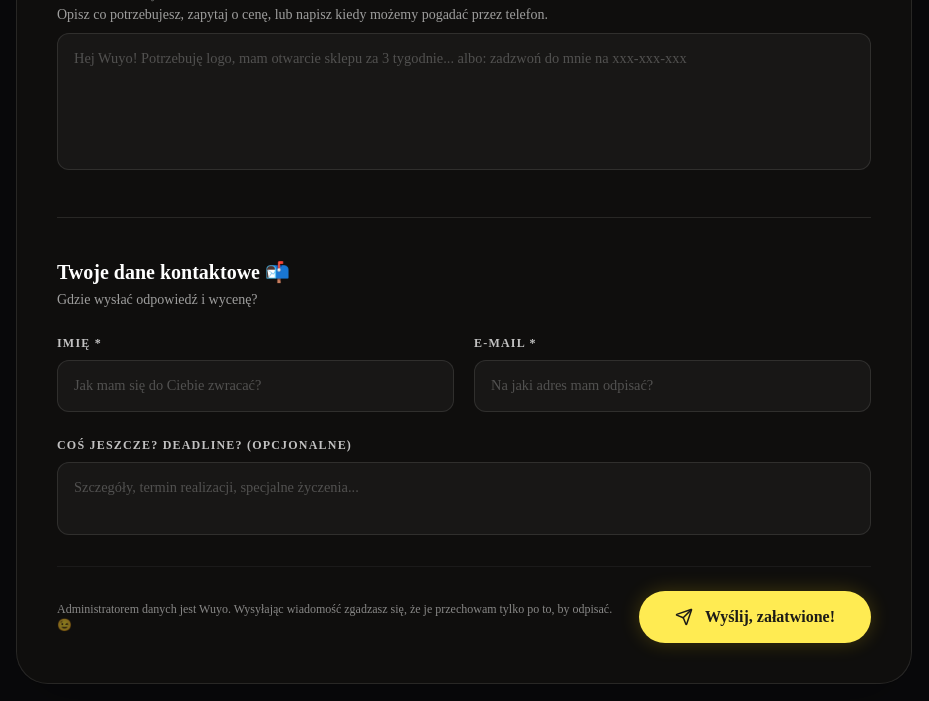
Test: ContactBrief › TC-5 pokazuje błąd gdy API zwraca błąd HTTP
(page scrolled)
Type "Piotr" into the field labelled "Imię *" at (256, 386), box left=57, top=360, right=454, bottom=412
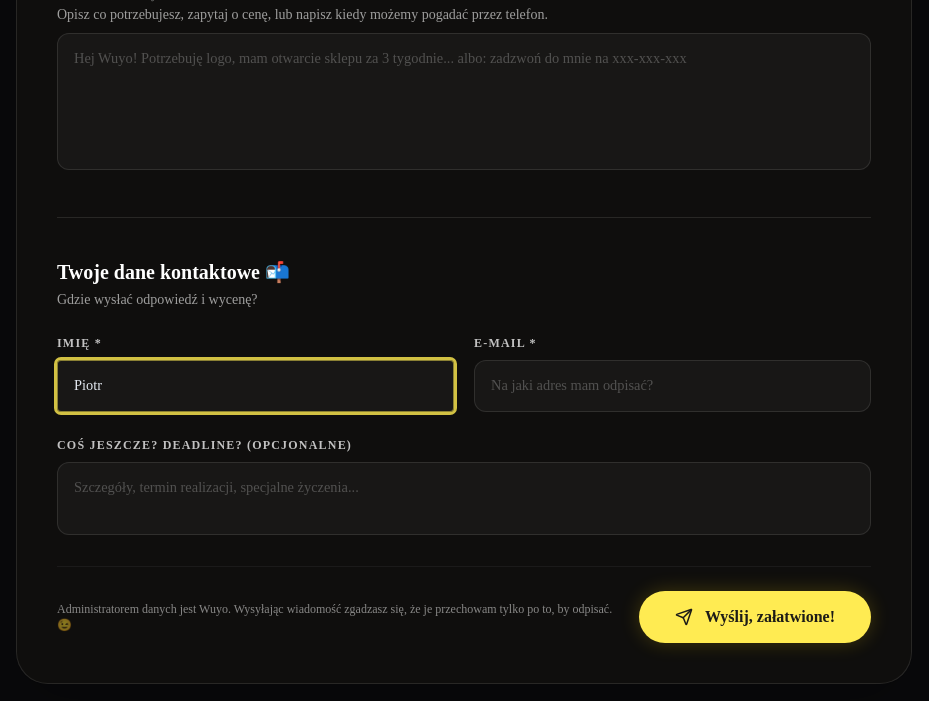
Type "piotr@test.pl" into the field labelled "E-mail *" at (672, 386), box left=474, top=360, right=871, bottom=412
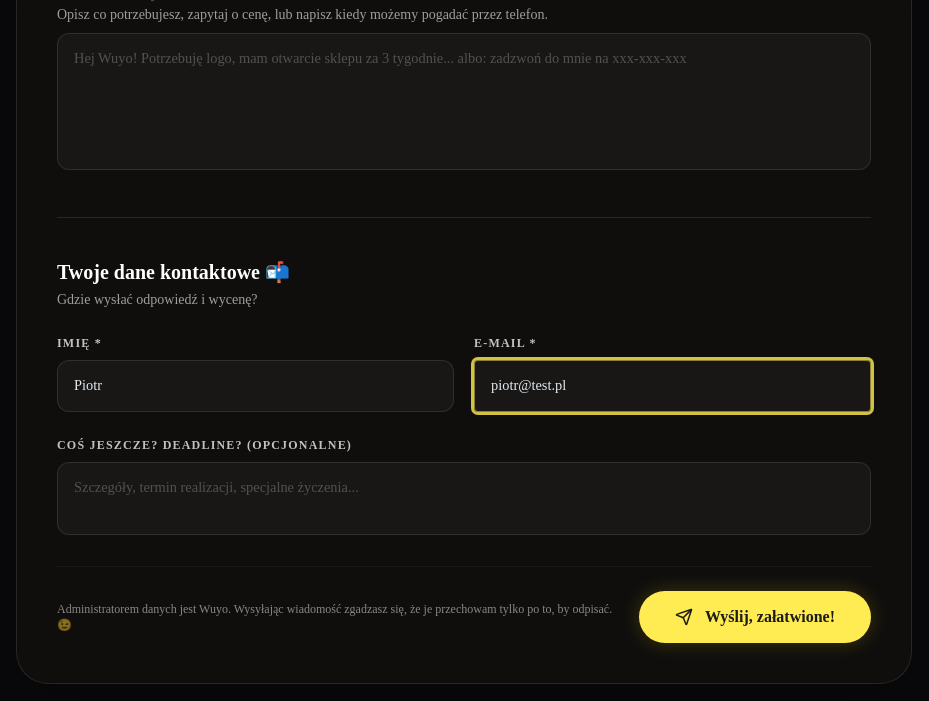
Type "Pytanie o stronę" into the text box with placeholder "Hej Wuyo" at (464, 101), box left=57, top=32, right=871, bottom=170
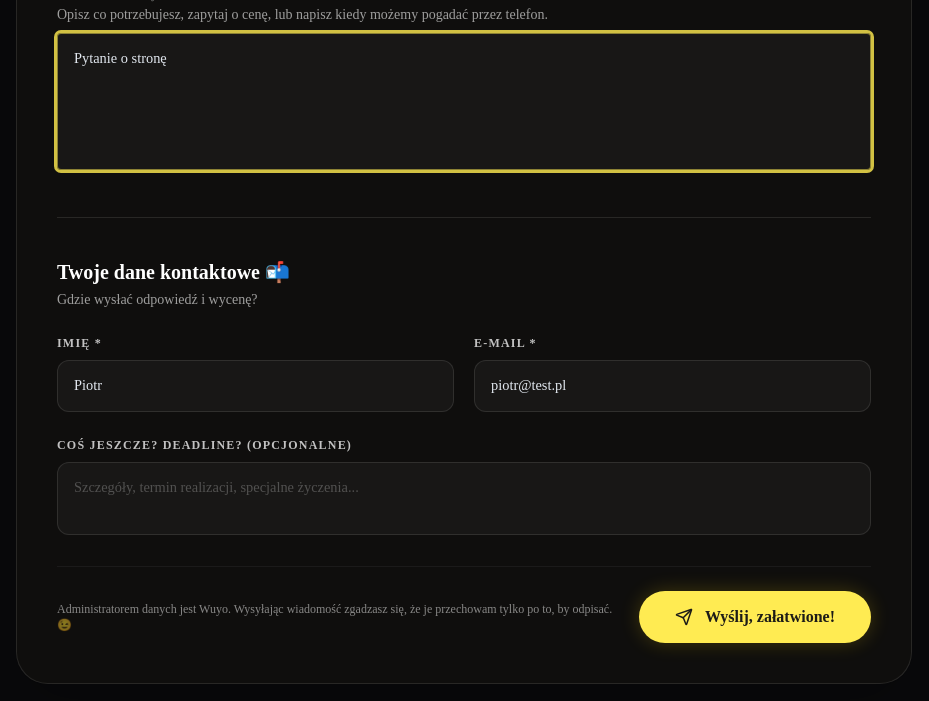
Click the button "Wyślij, załatwione!" at (755, 617), box left=639, top=591, right=871, bottom=643
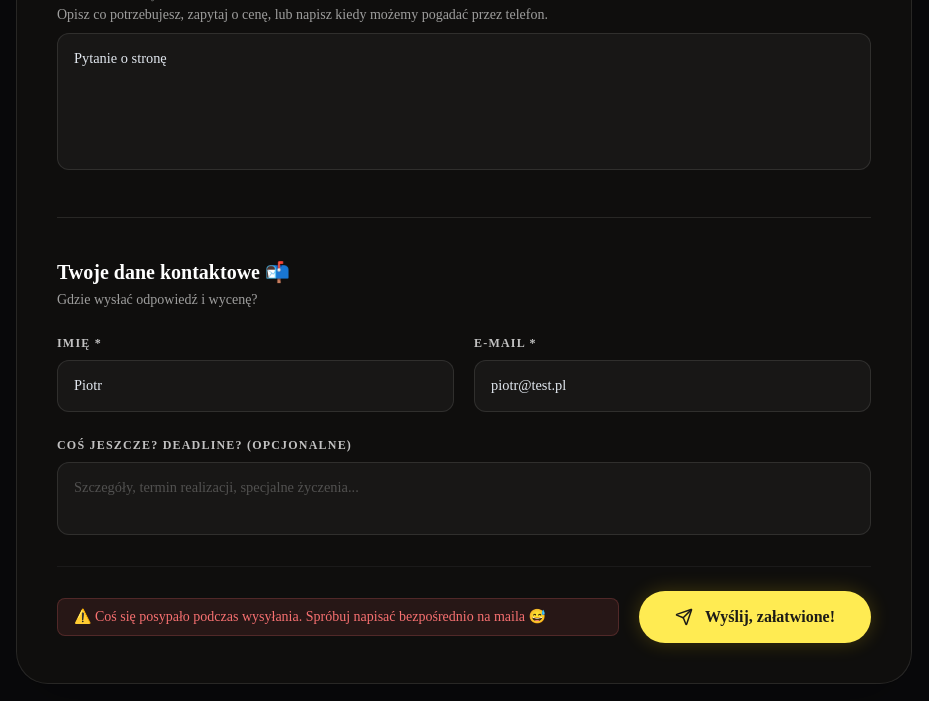
Result: the text "Coś się posypało podczas wysyłania" is shown at left=95, top=609, right=546, bottom=624
